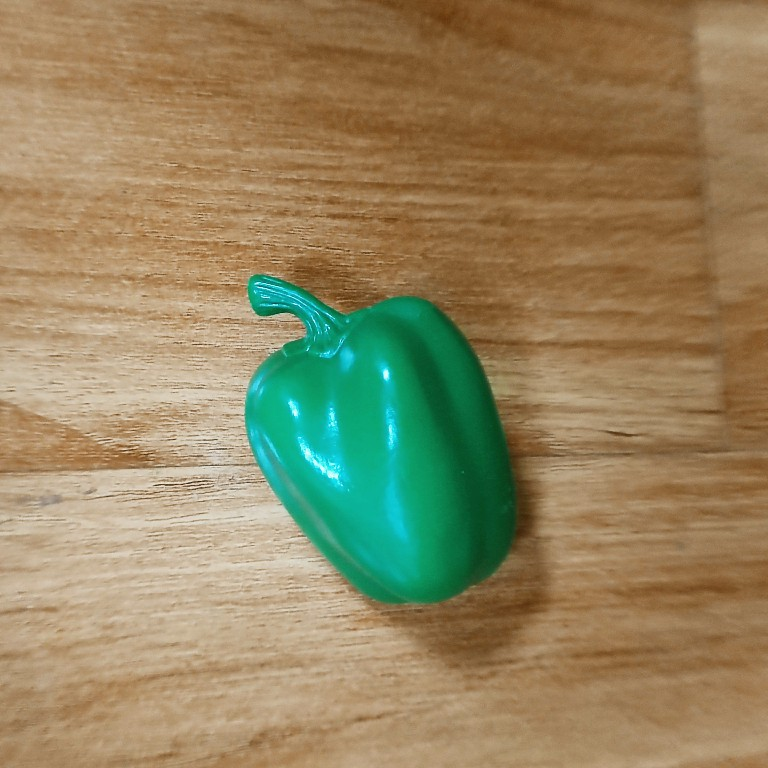fruit_pepper: (238, 270, 525, 614)
